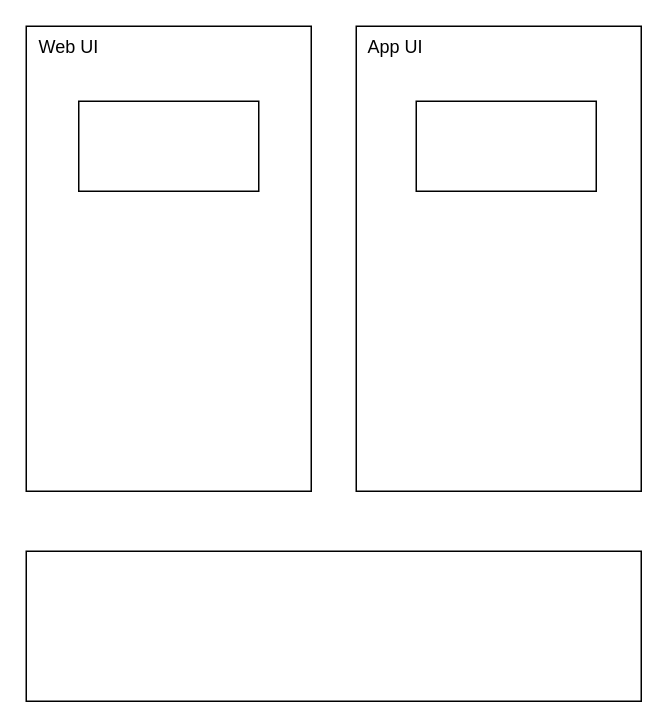
Image size: 668x728. Some labels were removed from this diagram. Here are the shapes that lost their labels. From the top down, the centre of each, then its label:
[168,145]: Register
[505,145]: Account Binding
